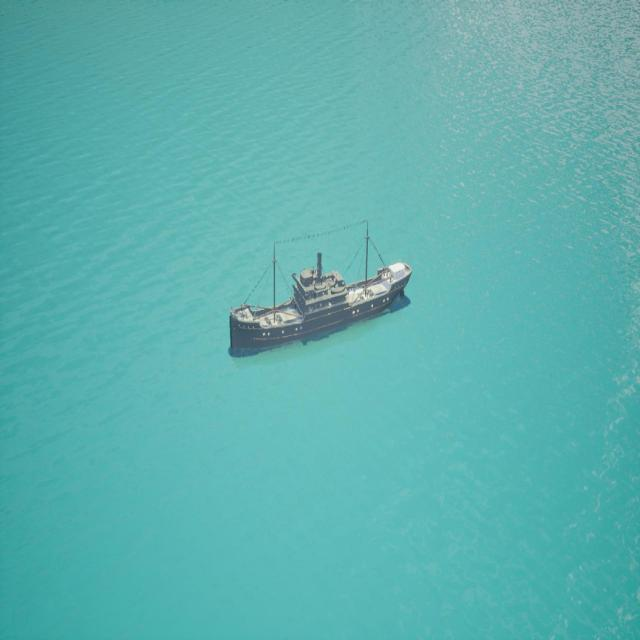fishing ship: (230, 229, 415, 361)
